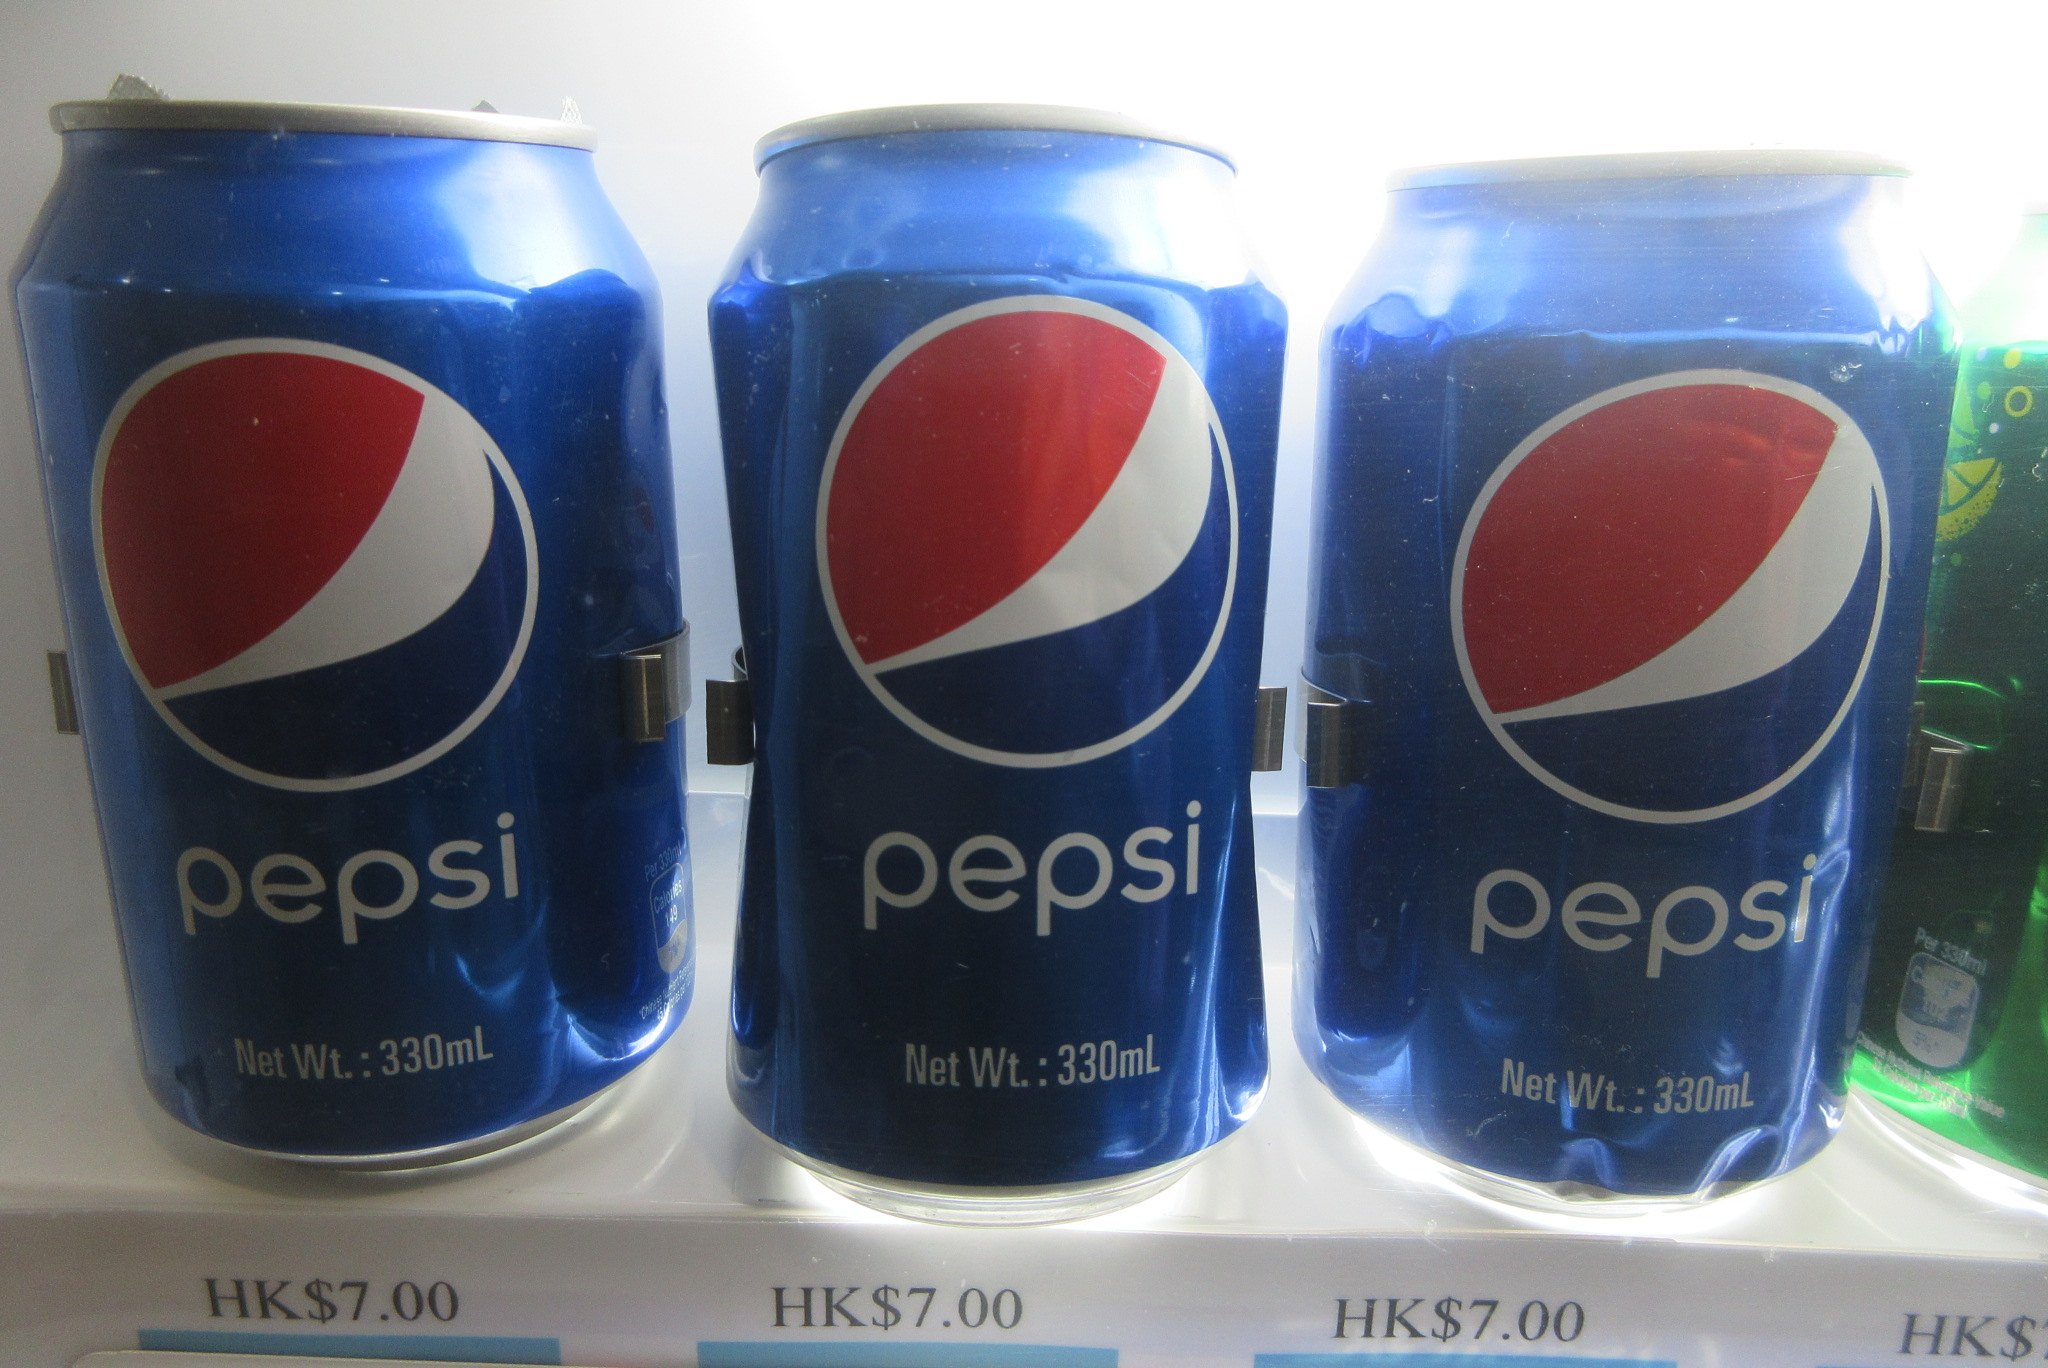pepsi: (69, 328, 539, 788), (89, 328, 539, 788), (1445, 366, 1889, 828), (812, 290, 1238, 766), (1464, 354, 1889, 828), (812, 299, 1238, 766), (1464, 366, 1889, 828)
